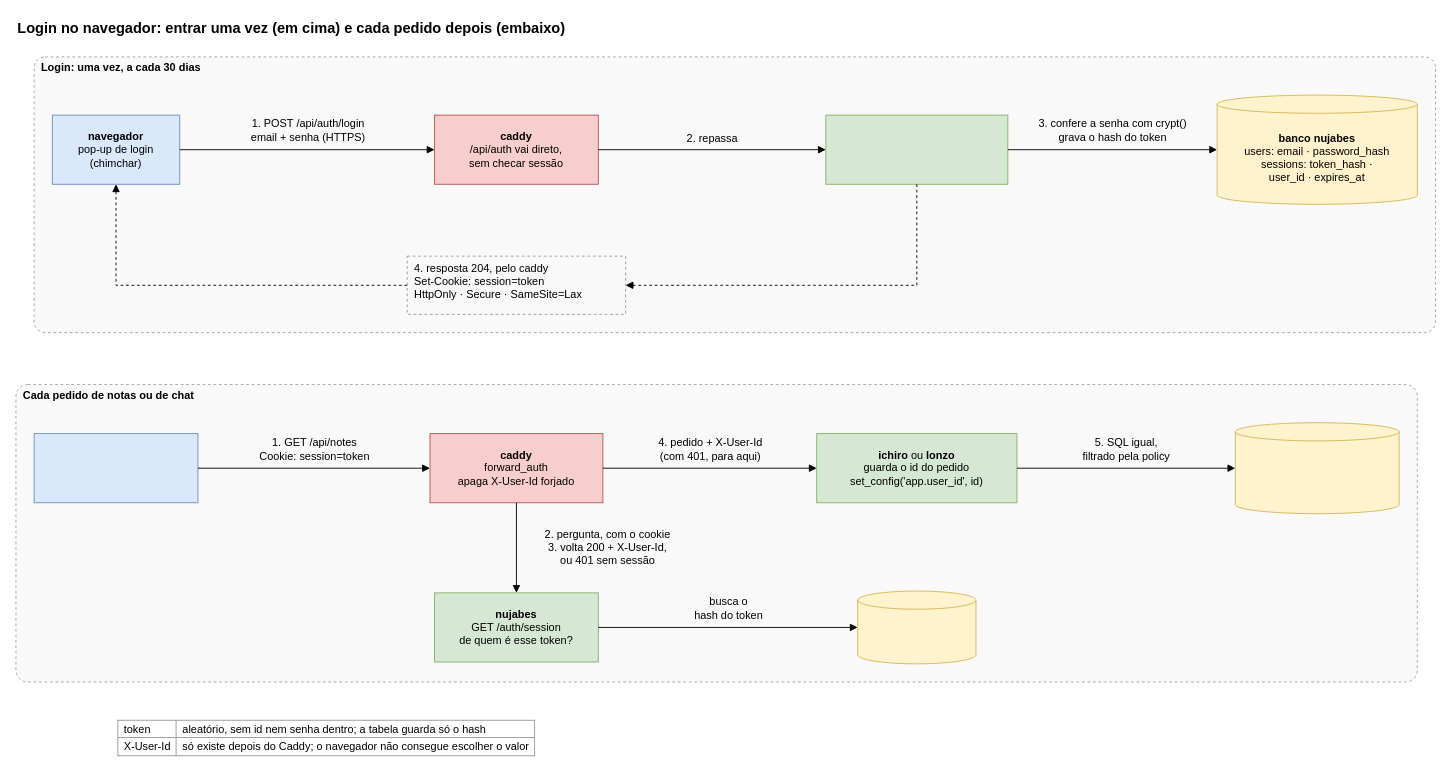
Some shapes in this 1451 by 774 pixel diagram are drawn without their labels. Each missing label, with the centre of its shape:
banco notes ou lonzo a policy junta owner_id = app.user_id: pixel 1316 468
banco nujabes sessions: pixel 916 627
navegador guardou session=token manda sozinho: pixel 115 468
nujabes sorteia o token secrets.token_urlsafe(32): pixel 916 149
